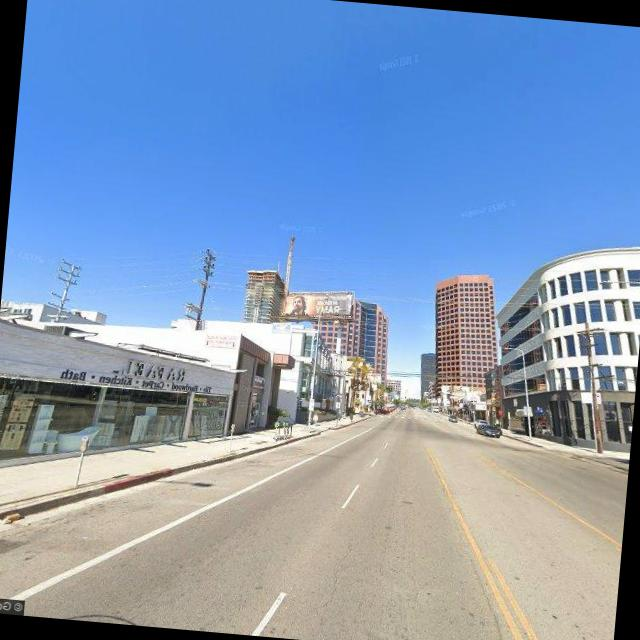pothole: (314, 532, 360, 629)
